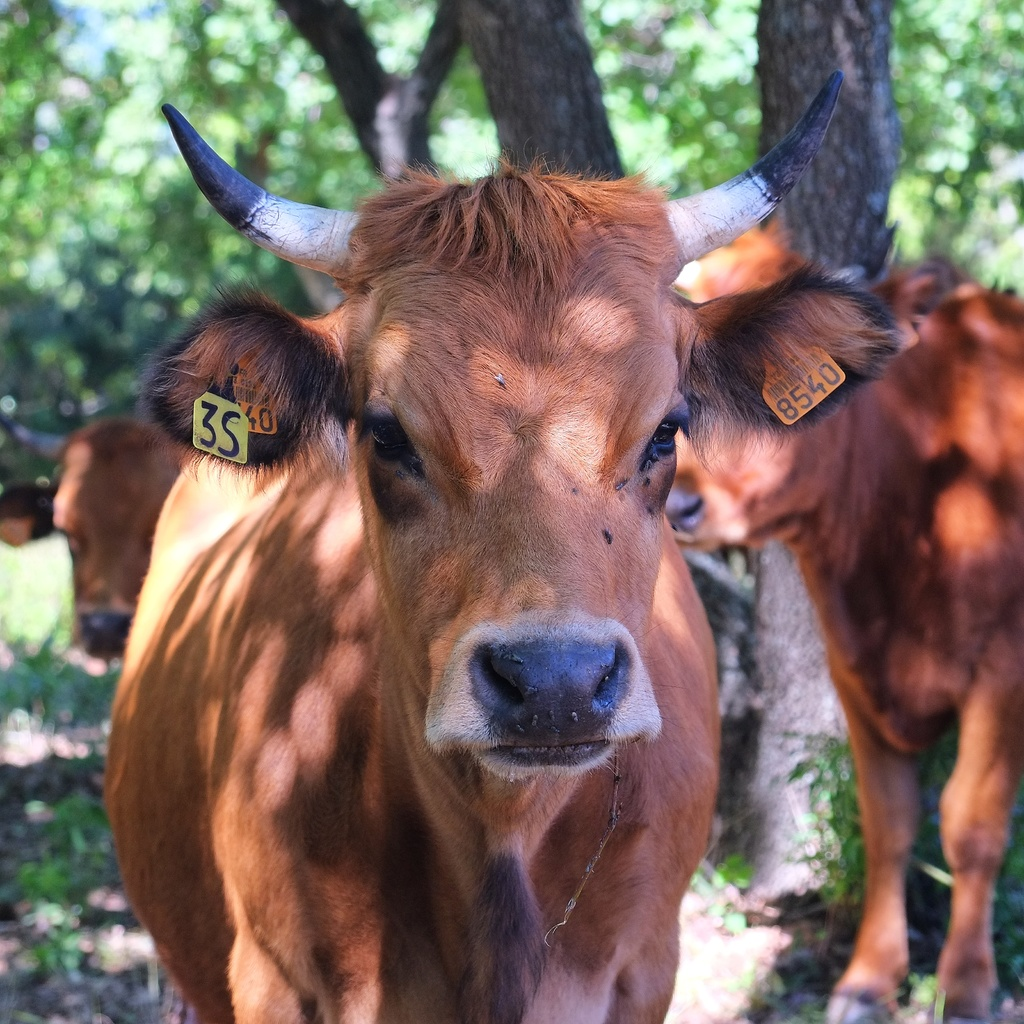person: (0, 479, 78, 666)
